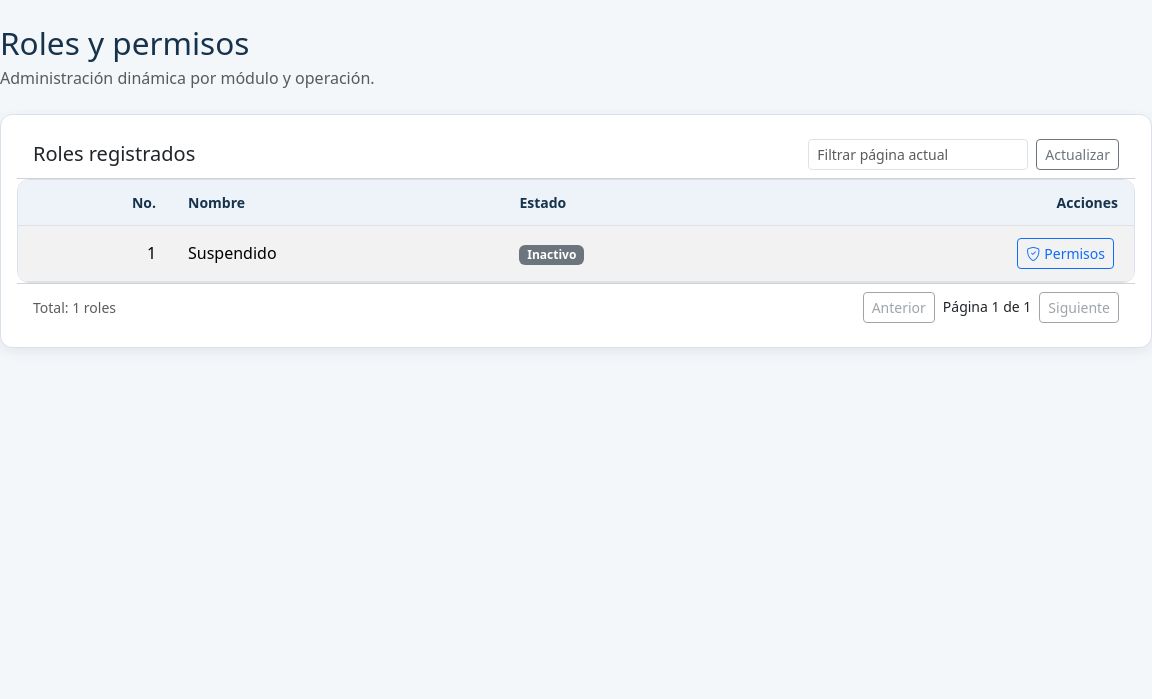
Scenario: RolesComponent › impide asignar módulos nuevos a un rol inactivo como exige la API
Click the button with aria-label "Administrar permisos de Suspendido" at (1066, 253), box [1017,238,1114,269]
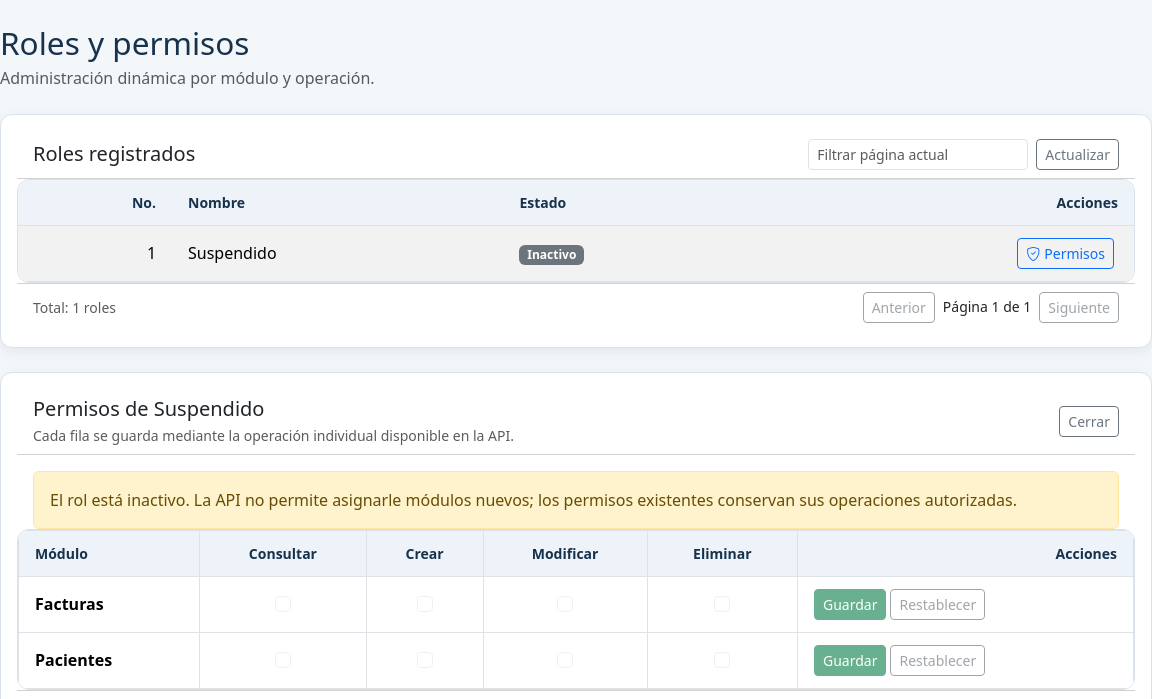
Check: the text "La API no permite asignarle módulos nuevos" is shown, box [50,489,1017,511]
